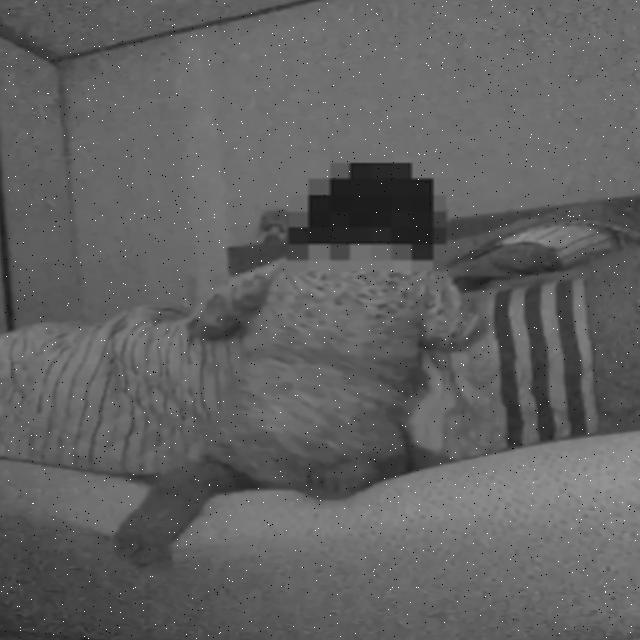child: (125, 158, 472, 562)
